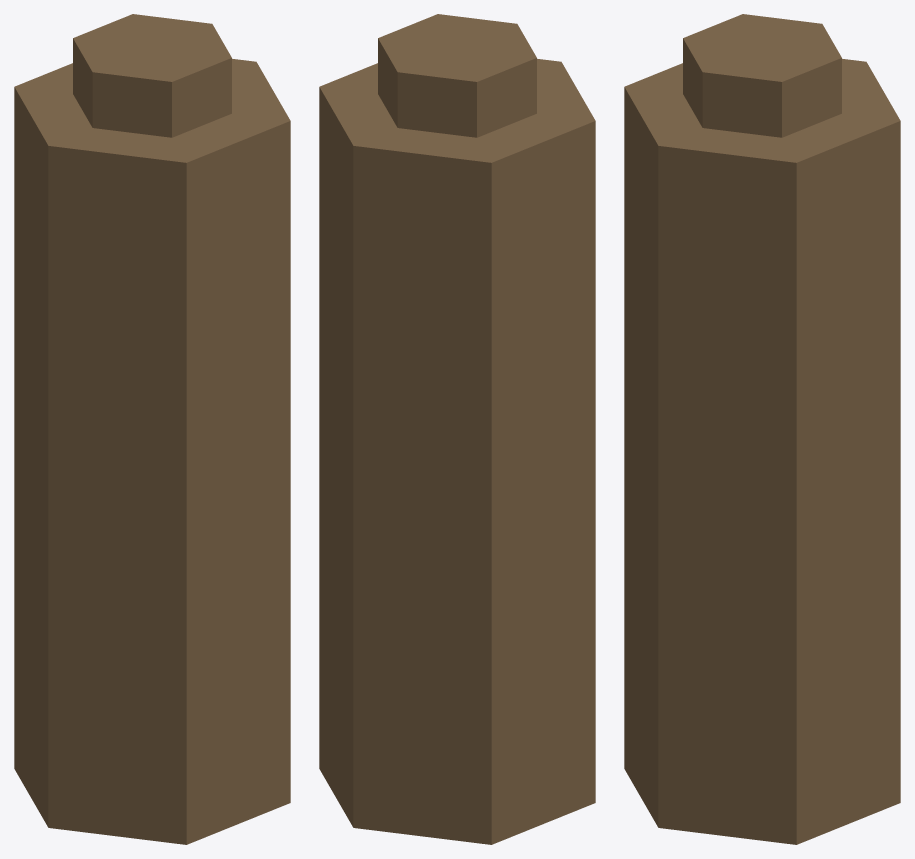
Rendered from SM_Env_Wood_05.fbx.
3 views of the same model, side by side, from view 1: azimuth 30°, elevation 25°; view 2: azimuth 150°, elevation 25°; view 3: azimuth 270°, elevation 25° (orthographic).
Parts seen in each view (by area): view 1: SM_Env_Wood_05; view 2: SM_Env_Wood_05; view 3: SM_Env_Wood_05.
Part boxes in pixels (bbox=[...]): SM_Env_Wood_05: bbox=[14, 14, 290, 844]; SM_Env_Wood_05: bbox=[319, 14, 595, 844]; SM_Env_Wood_05: bbox=[624, 14, 900, 844].
Bounding box in the file's own units: 25.4 × 73.95 × 25.1.
Materials: 1 (1 with a texture image).
